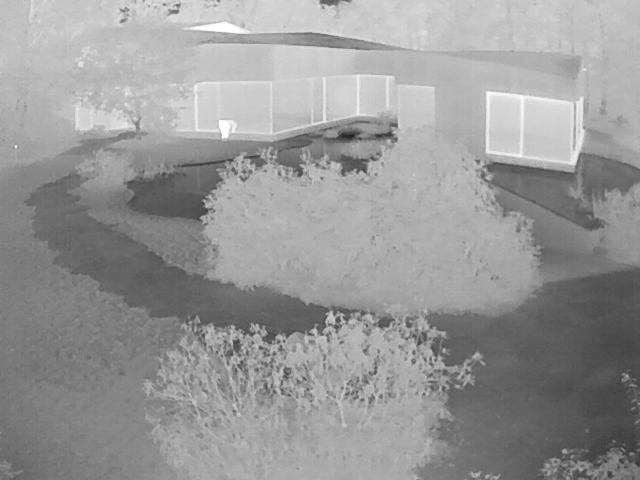person: (219, 120, 234, 141)
